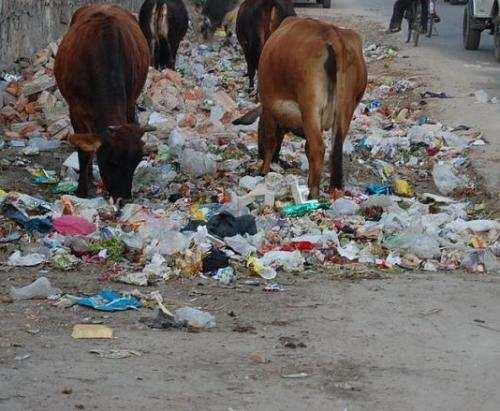road: (19, 360, 498, 405)
trash: (164, 91, 231, 254), (242, 226, 500, 265), (378, 102, 462, 194), (6, 204, 154, 251)
